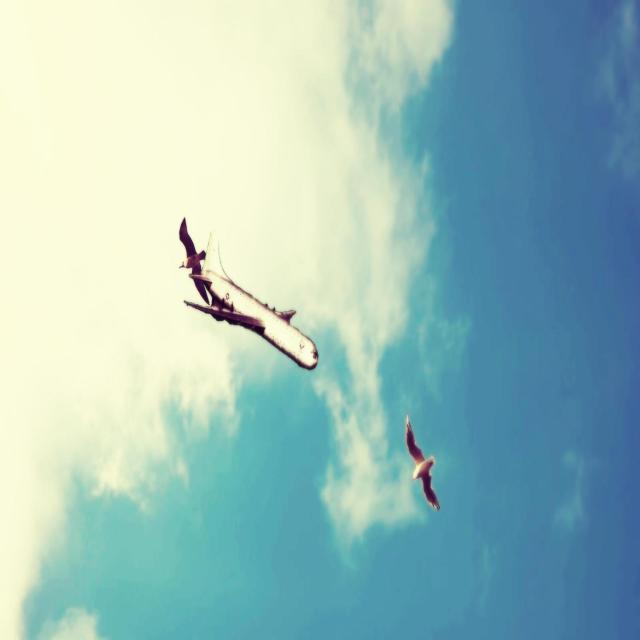airplane: (178, 216, 319, 371)
